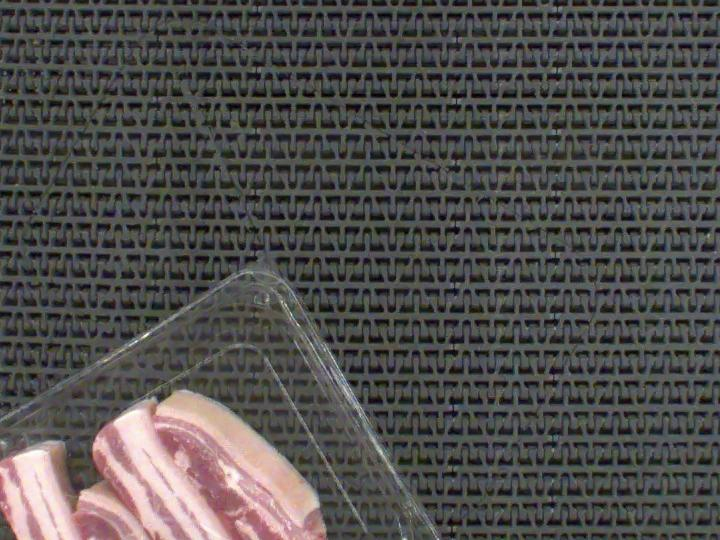packaging-error: (0, 422, 43, 456)
